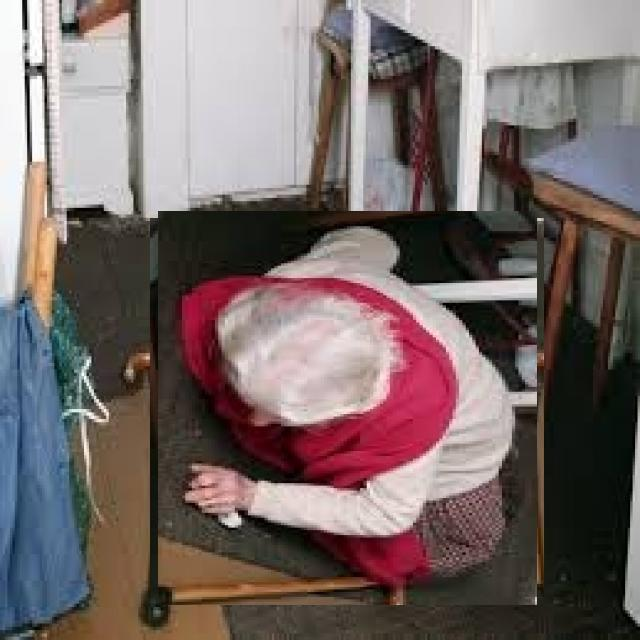Fall: (168, 232, 552, 612)
